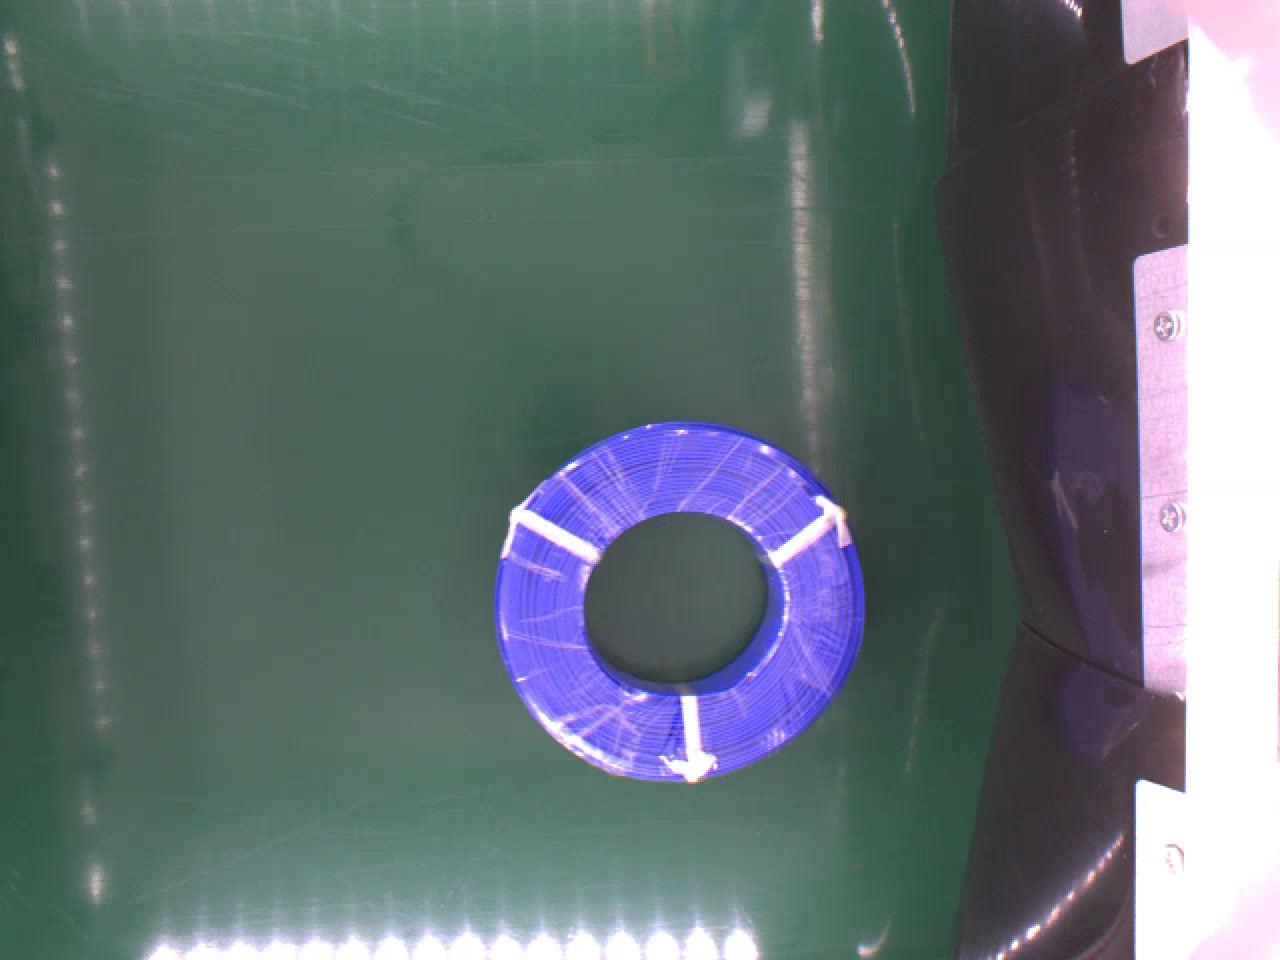blue: (482, 415, 869, 786)
